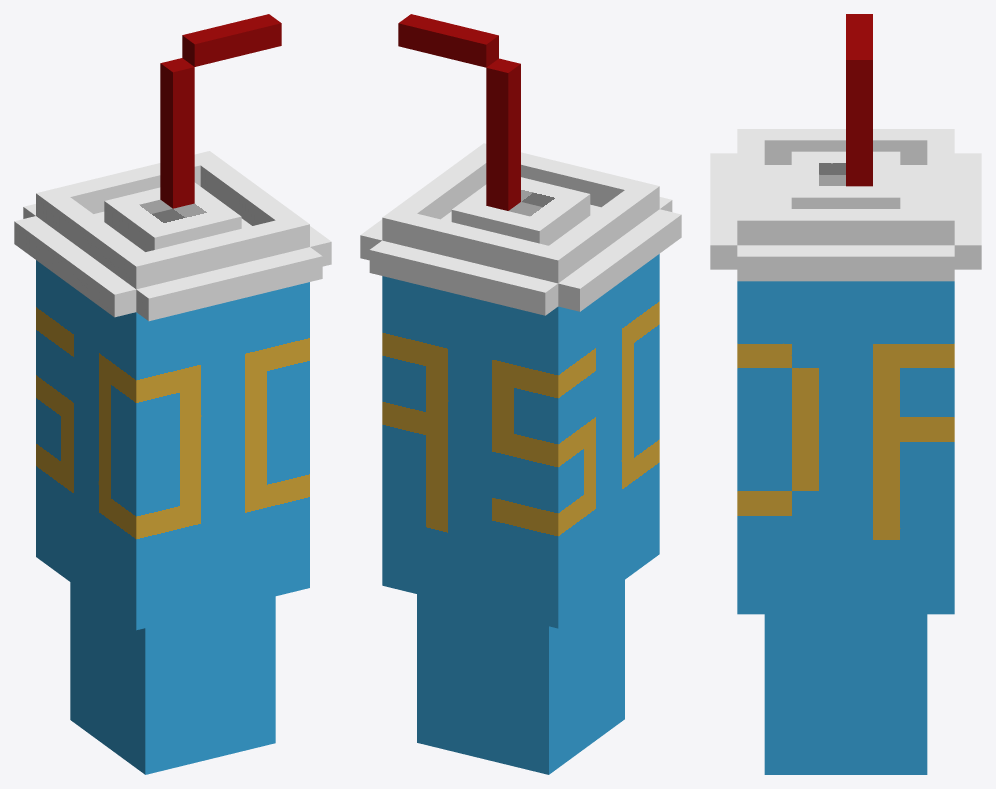
File: Soda01.fbx
3 renders of one model, left to right at view 1: azimuth 30°, elevation 25°; view 2: azimuth 150°, elevation 25°; view 3: azimuth 270°, elevation 25°, orthographic. The views are drawn at different scales.
Parts seen in each view (by area): view 1: Matrix; view 2: Matrix; view 3: Matrix.
Part boxes in pixels (x1=…): Matrix: x1=14, y1=14, x2=331, y2=774; Matrix: x1=360, y1=14, x2=681, y2=774; Matrix: x1=710, y1=14, x2=981, y2=774.
Size of the model in its own units: 10 by 30 by 10.
